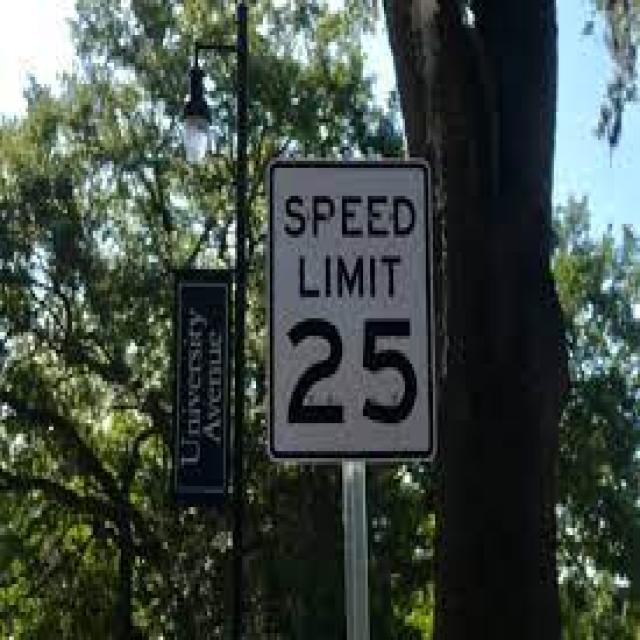speedLimit25: (282, 185, 421, 438)
